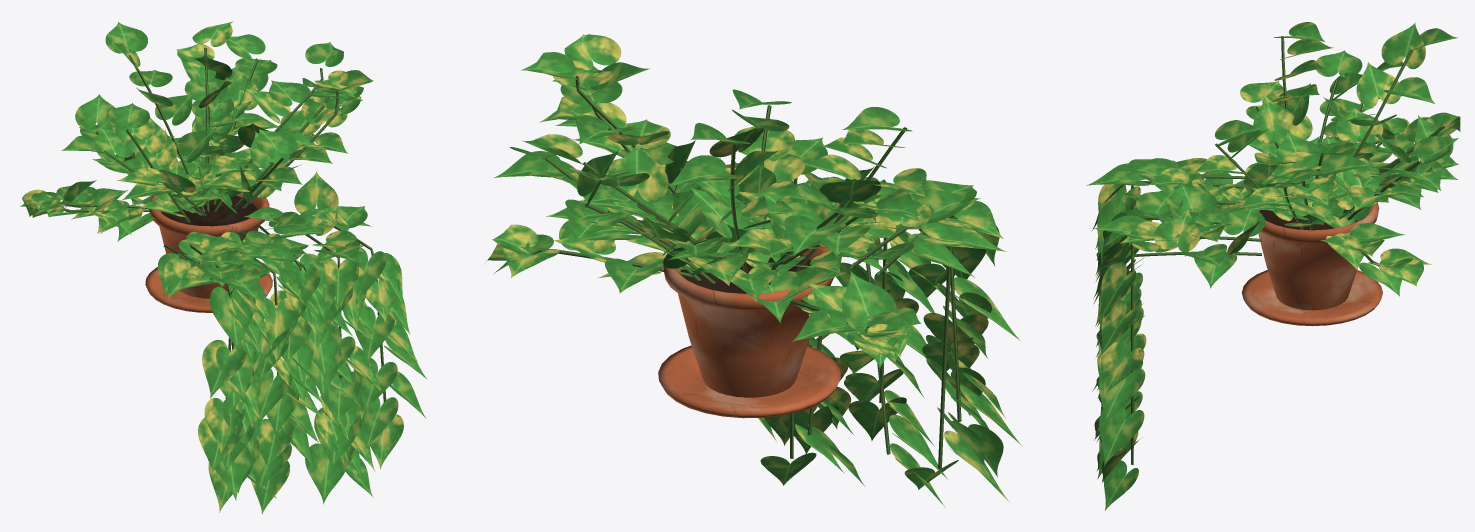
File: potted-plant.glb
3 renders of one model, left to right at view 1: azimuth 30°, elevation 25°; view 2: azimuth 150°, elevation 25°; view 3: azimuth 270°, elevation 25°, orthographic. The views are drawn at different scales.
Visible parts, largest first — view 1: potted-plant; view 2: potted-plant; view 3: potted-plant.
Part boxes in pixels (<box>): potted-plant: <box>20,21,426,514</box>; potted-plant: <box>485,34,1022,507</box>; potted-plant: <box>1086,22,1460,510</box>.
Size of the model in its own units: 0.57 by 0.7529 by 0.622.
2 materials, 2 textured.
